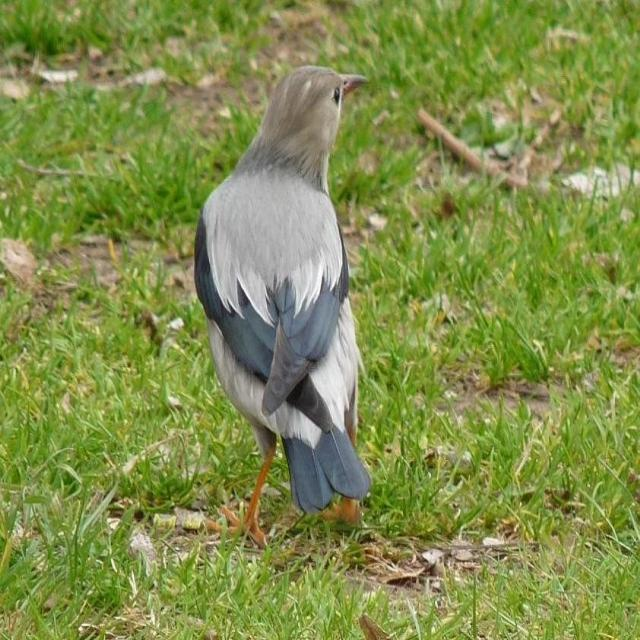bird: (188, 59, 384, 557)
